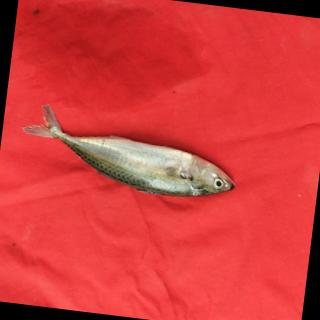Ikan: (7, 88, 257, 236)
